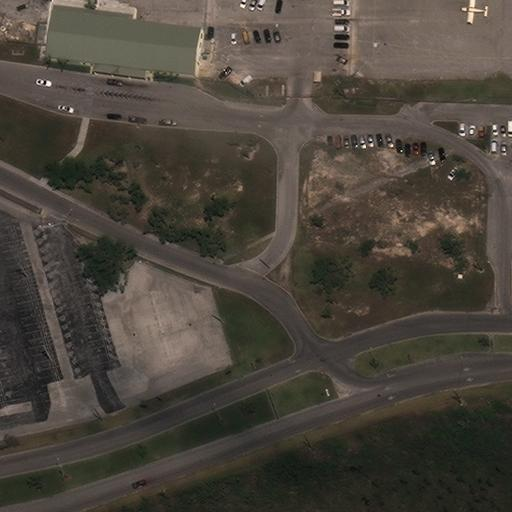Small Civil Transport: (460, 0, 488, 23)
